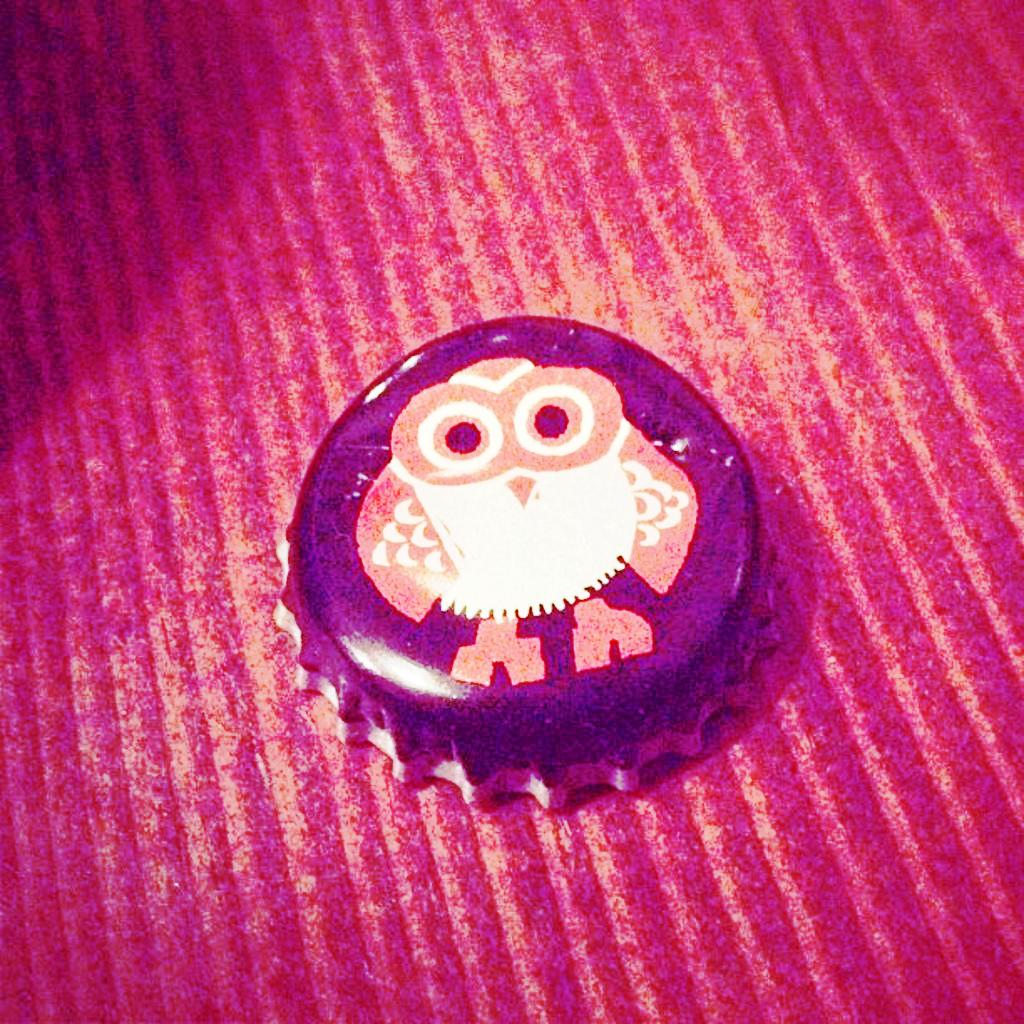Owl: (356, 353, 698, 693)
